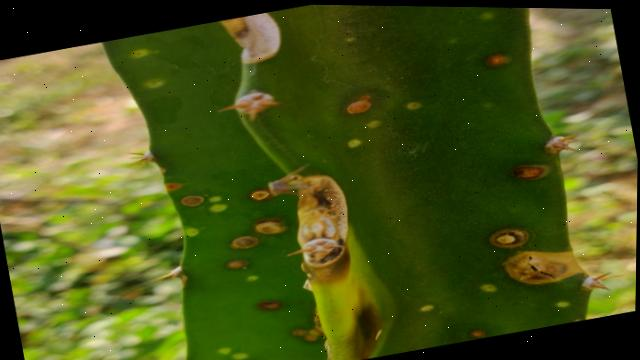stemcanker: (166, 194, 293, 315), (341, 91, 382, 122), (508, 158, 552, 184), (483, 48, 515, 73)
